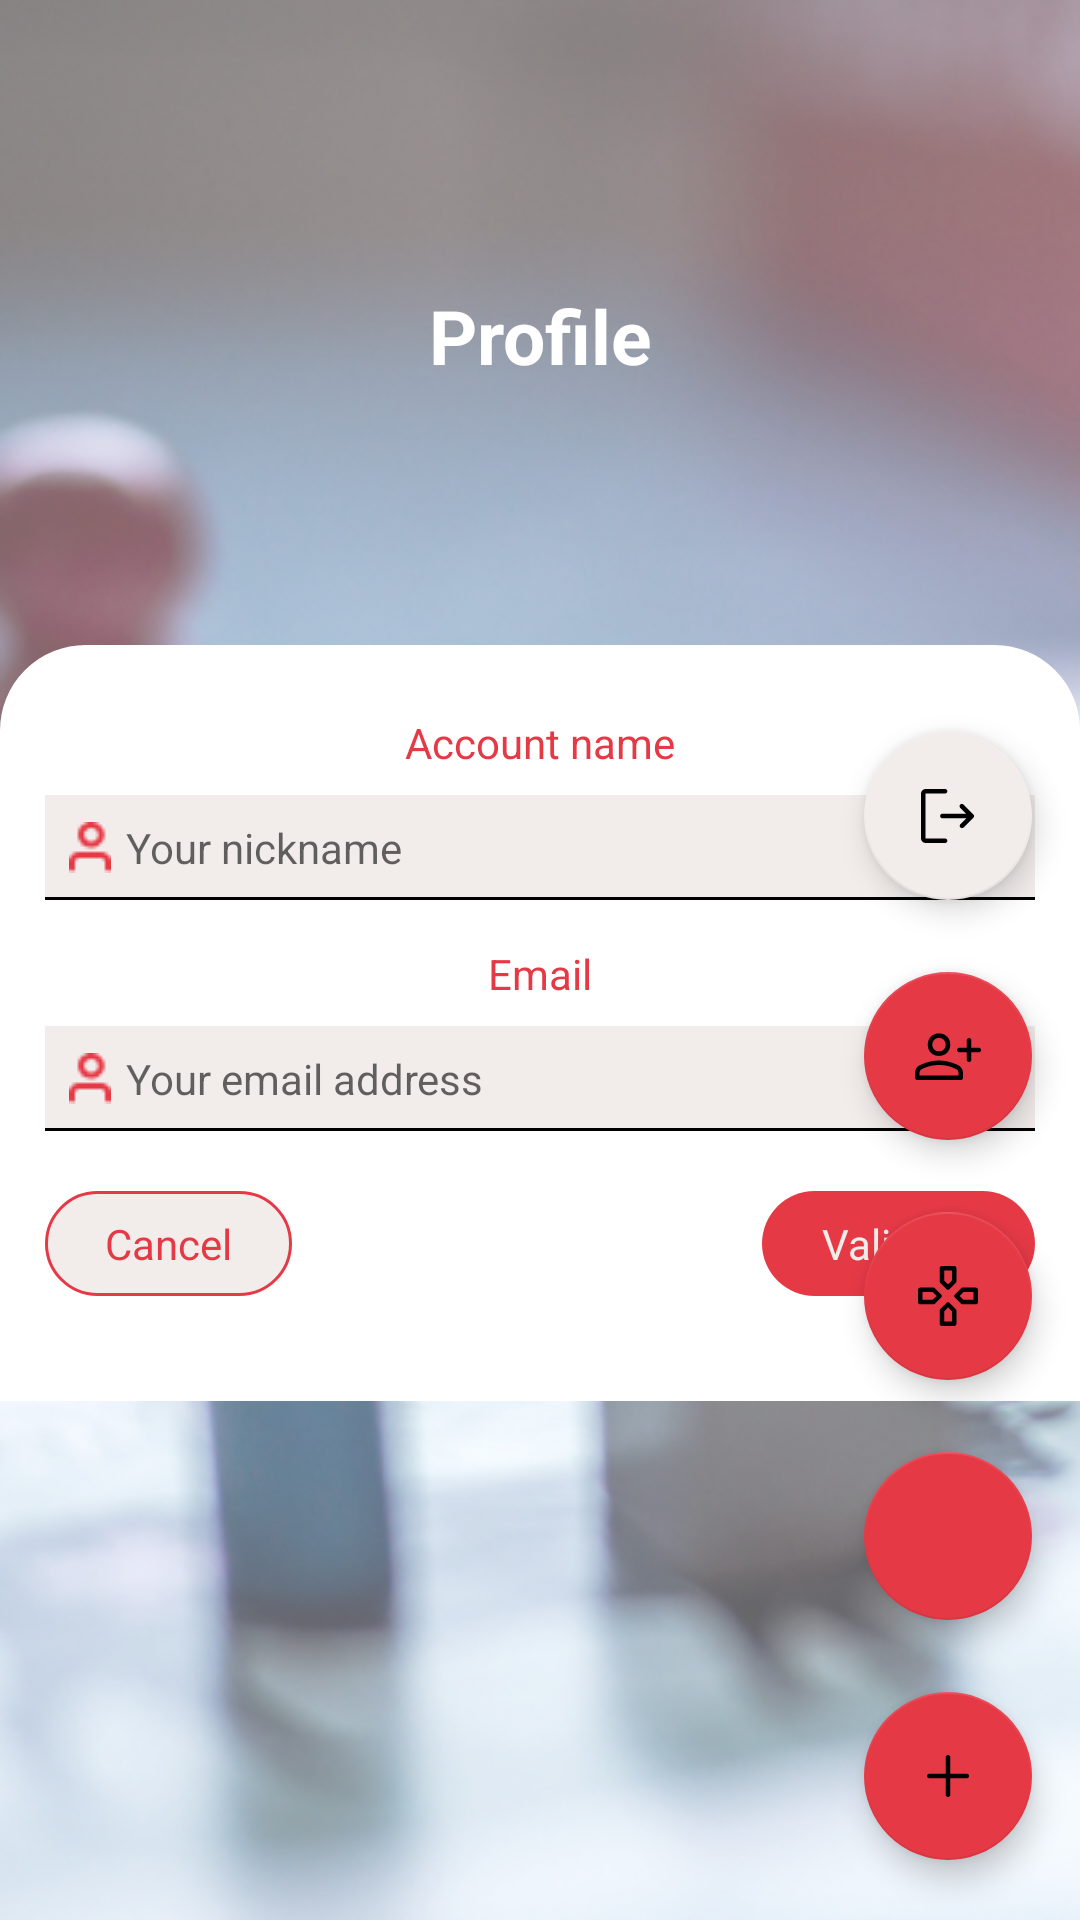

Point at icon controls on the screen. Image size 1080 × 1920, points as (x,y).
add plus: (948,1776)
gamepad: (948,1296)
person add: (948,1056)
